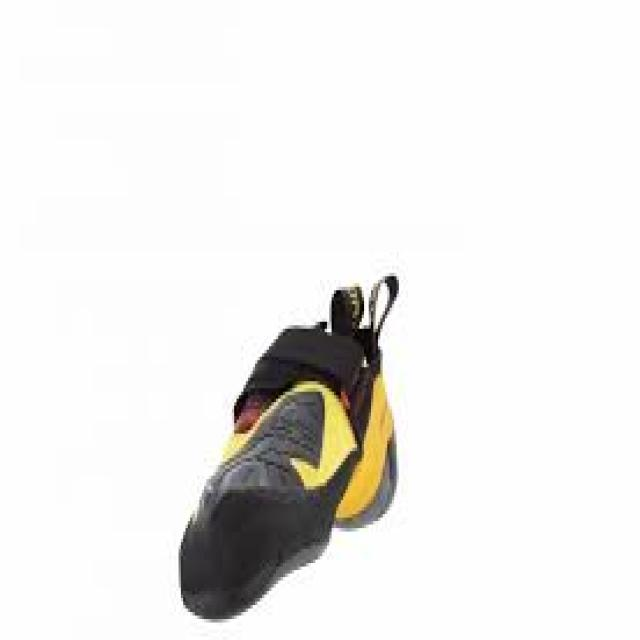climbing-shoes: (177, 269, 403, 622)
